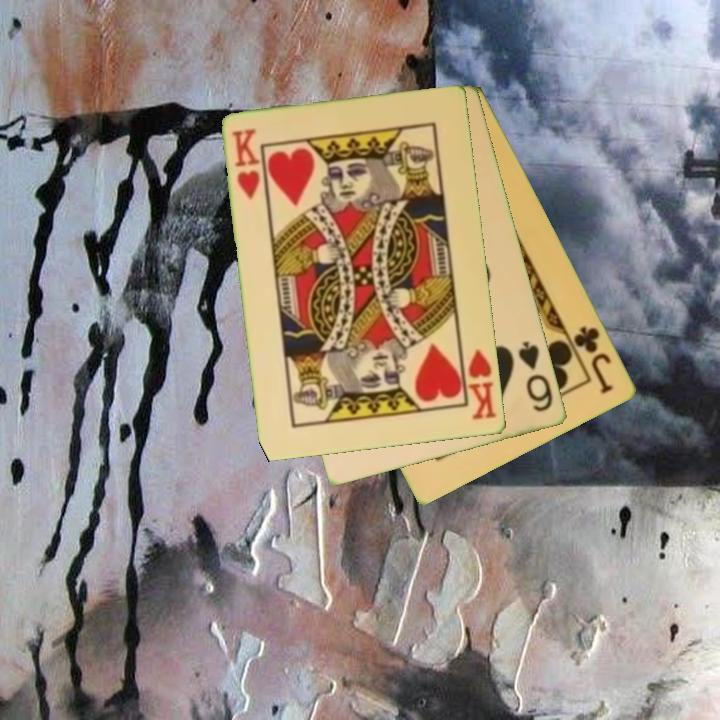6s: (515, 337, 556, 415)
Jc: (570, 322, 617, 397)
Kh: (458, 343, 500, 423), (229, 126, 264, 203)
